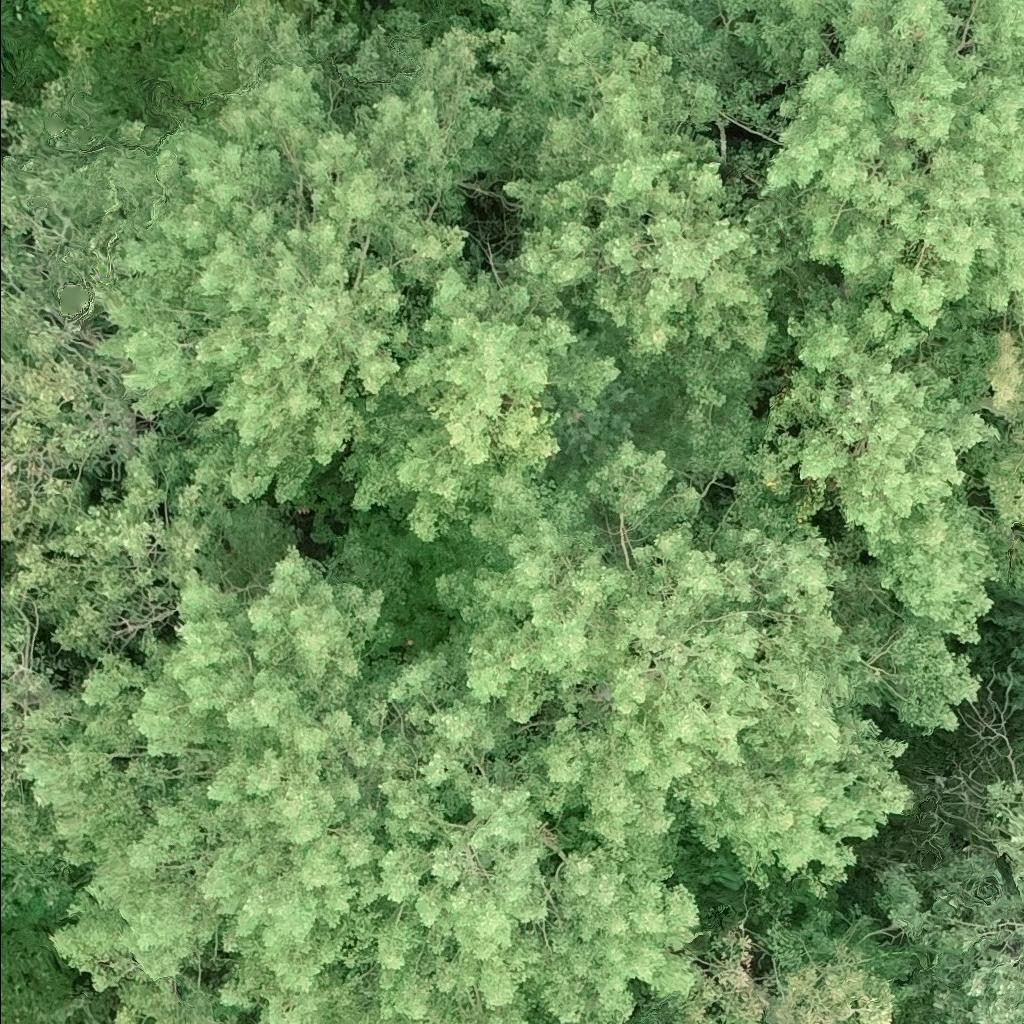crown: (100, 0, 502, 502), (472, 0, 807, 478), (737, 0, 1023, 332), (746, 256, 1001, 623), (343, 258, 621, 541), (0, 81, 166, 541), (915, 311, 1023, 589), (591, 0, 794, 134), (40, 0, 236, 57), (545, 378, 637, 471)
